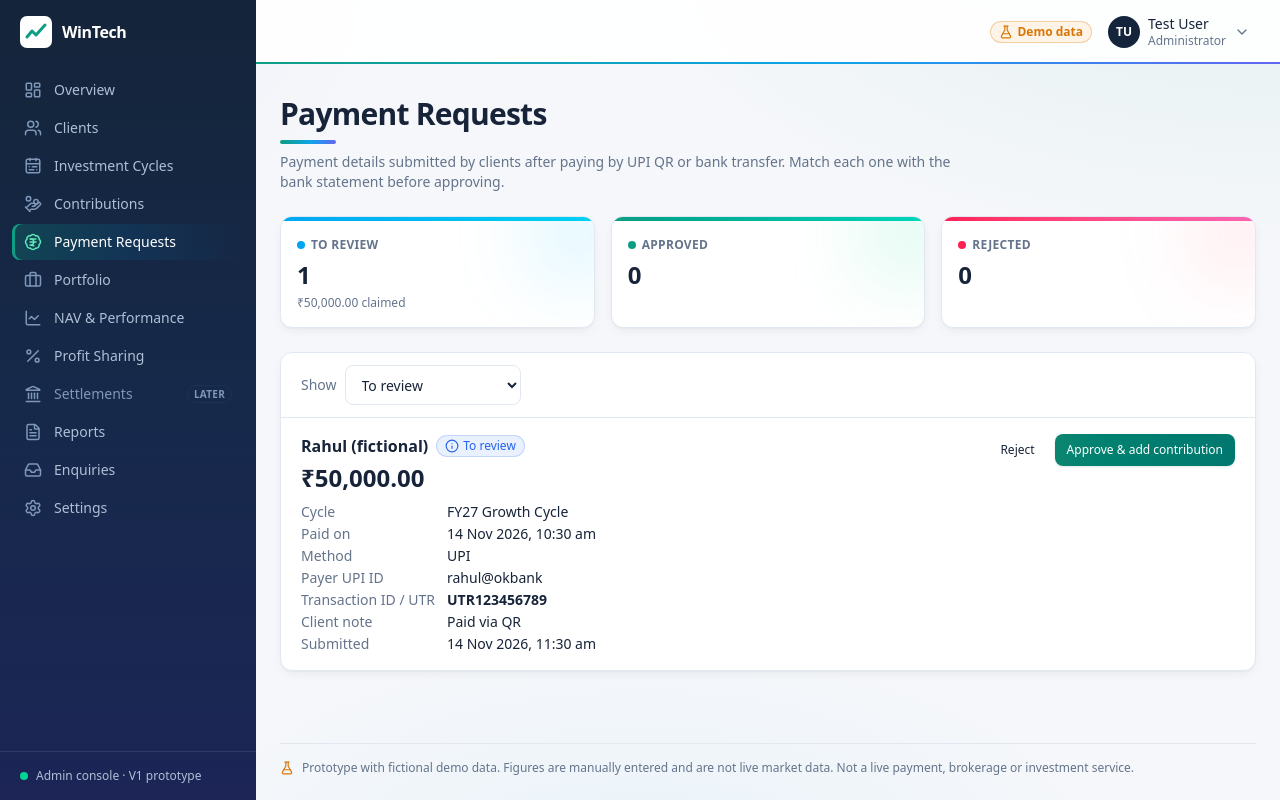
Test: admin: payment requests › rejects with a reason the client will see
Later steps or results of the test are not shown.
Step 1. Click the button "Reject" → [1018, 450], box [988,434,1047,466]
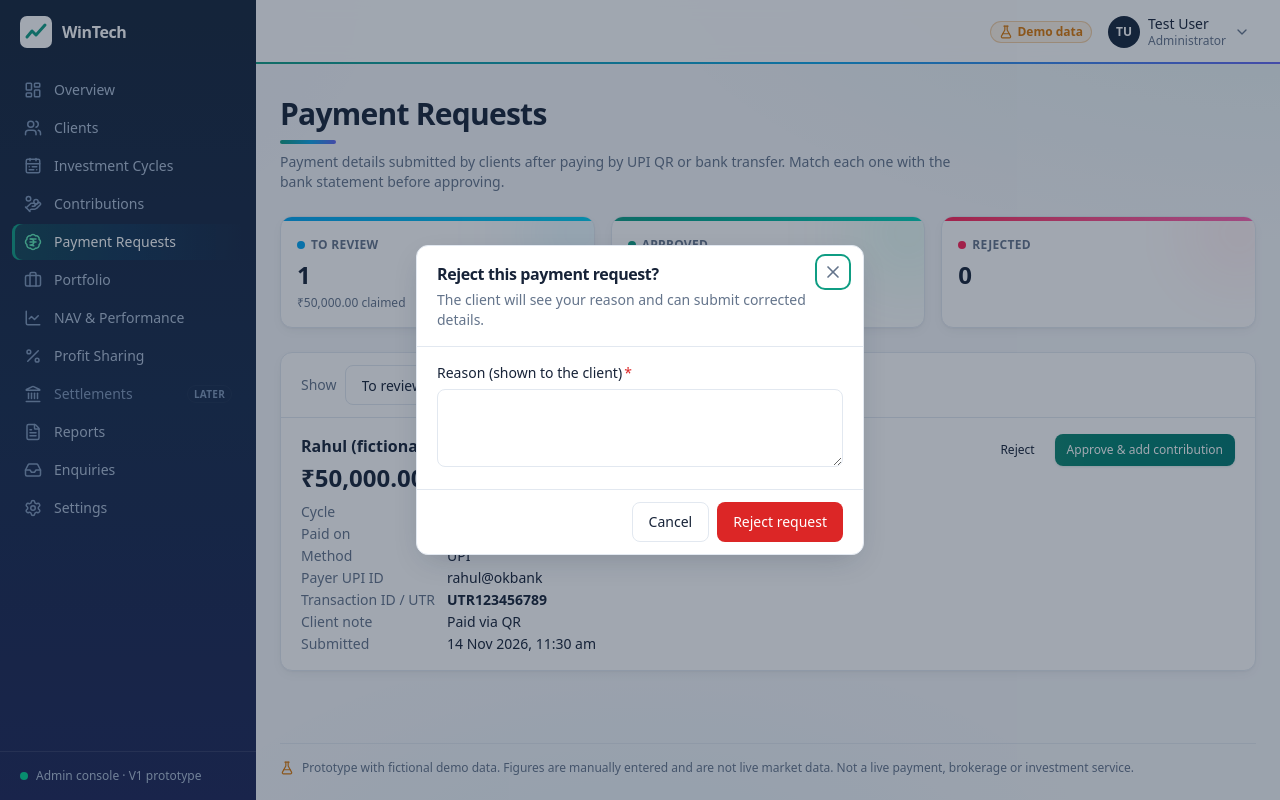
Expected: the text "client will see your reason" is shown, [437,290,806,329]
